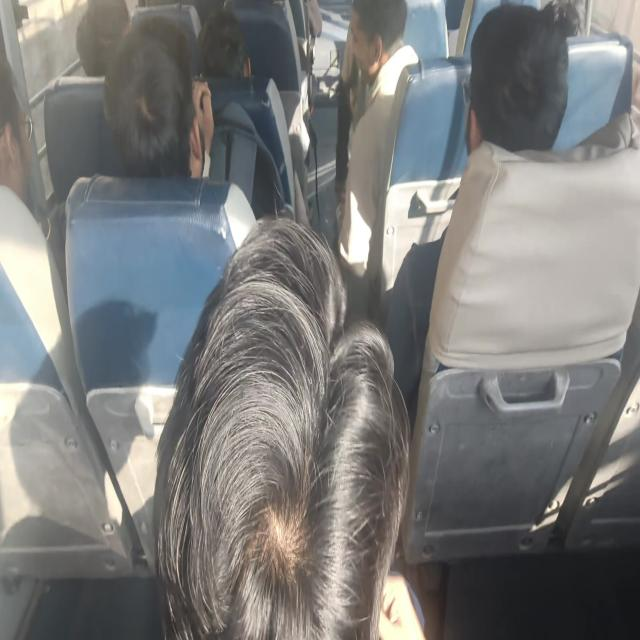person: (165, 209, 402, 640), (450, 5, 571, 178), (103, 16, 194, 171), (0, 63, 50, 212), (347, 0, 409, 78), (197, 10, 256, 79), (76, 2, 124, 68), (548, 0, 597, 40)
